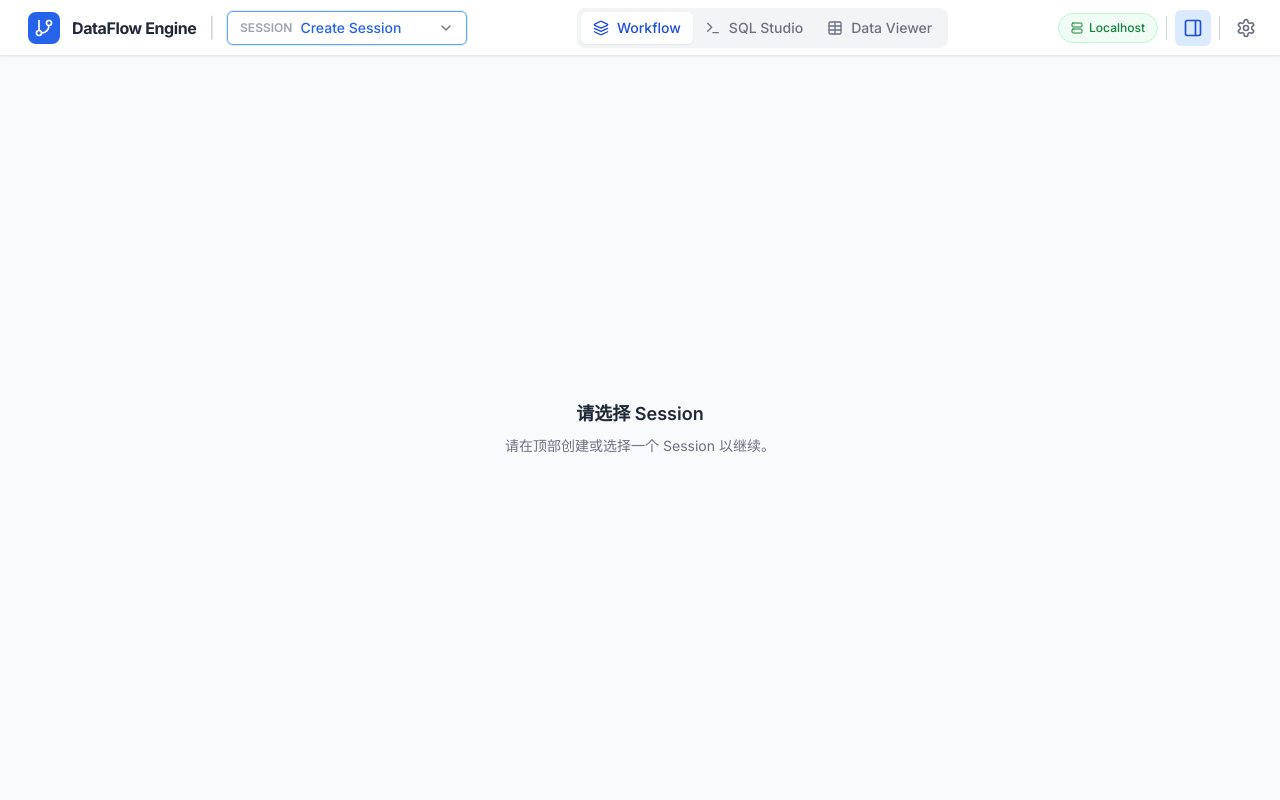
Session diagnostics (UI) › opens diagnostics modal with report content
Click the button "Session Create Session": (347, 28) [227,10,467,44]
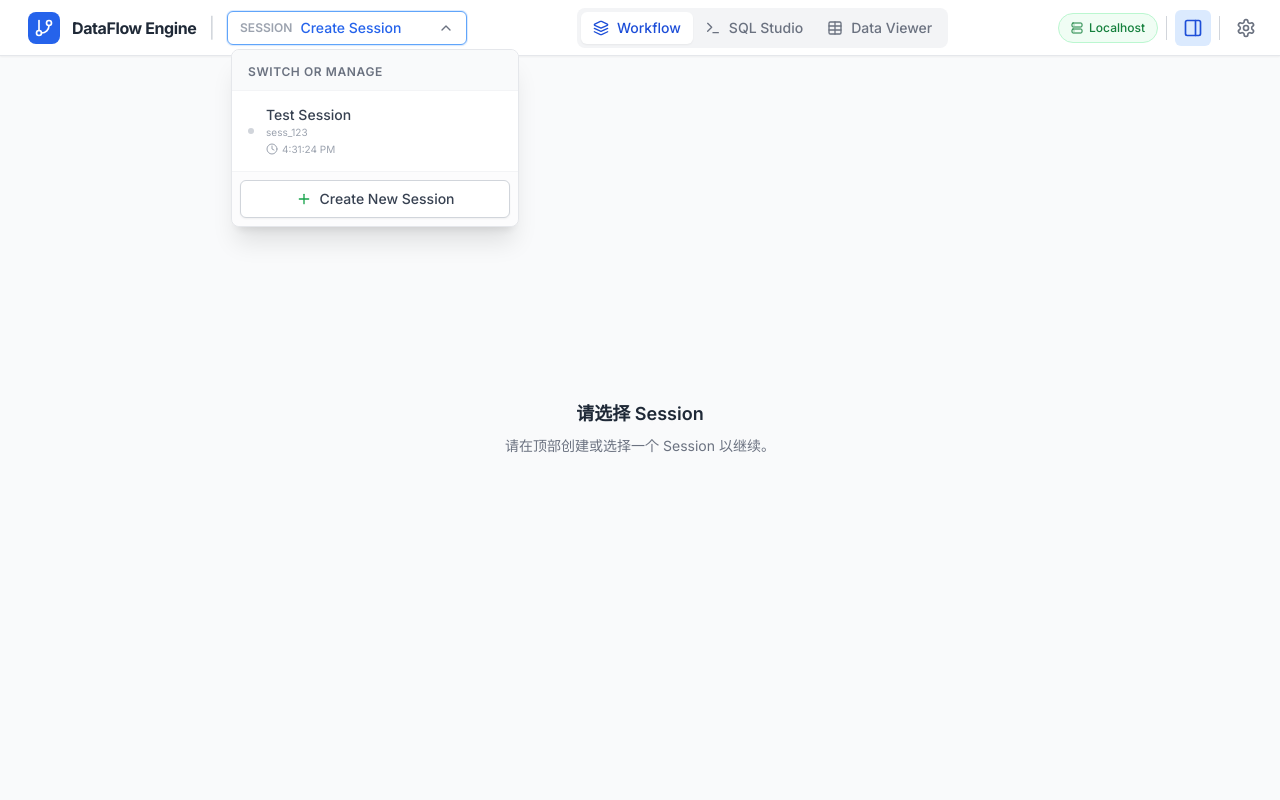
Click the text "Test Session": (309, 114) [266,104,351,124]
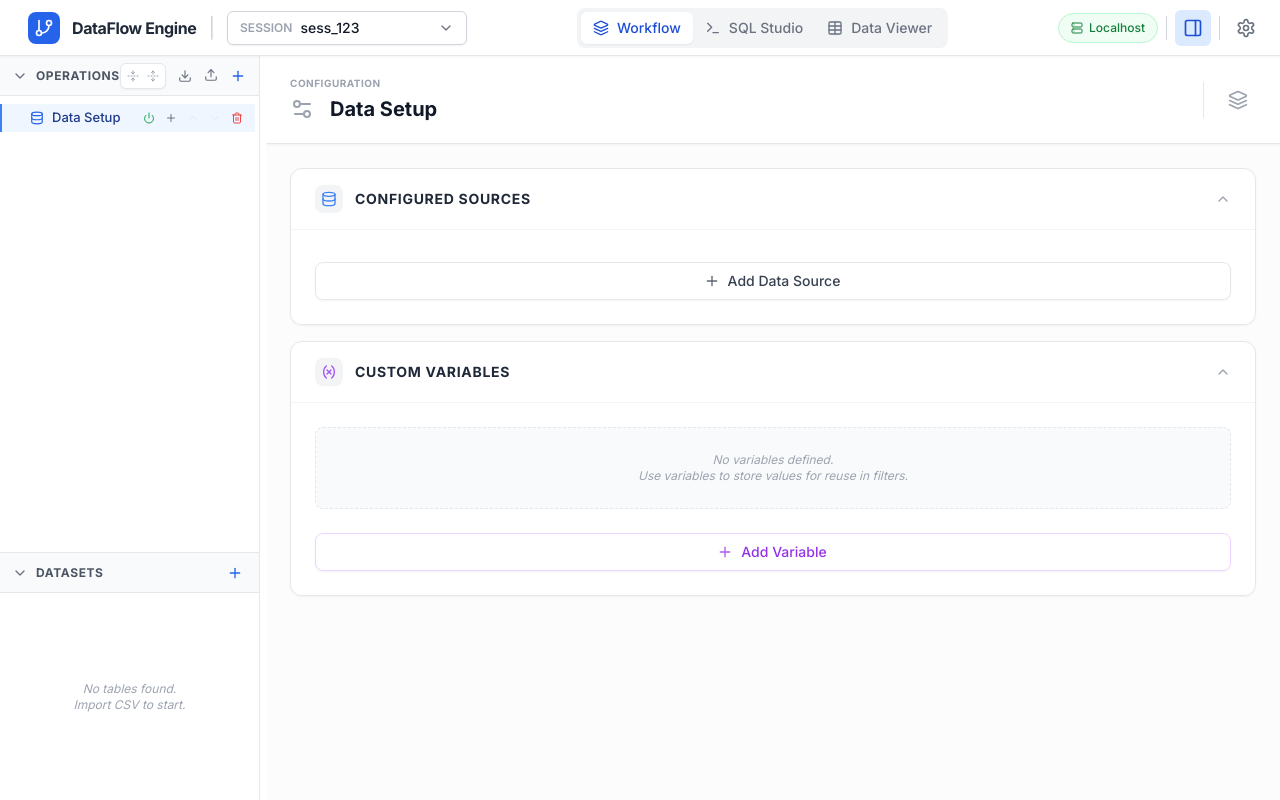
Click the button "Session sess_123": (347, 28) [227,10,467,44]
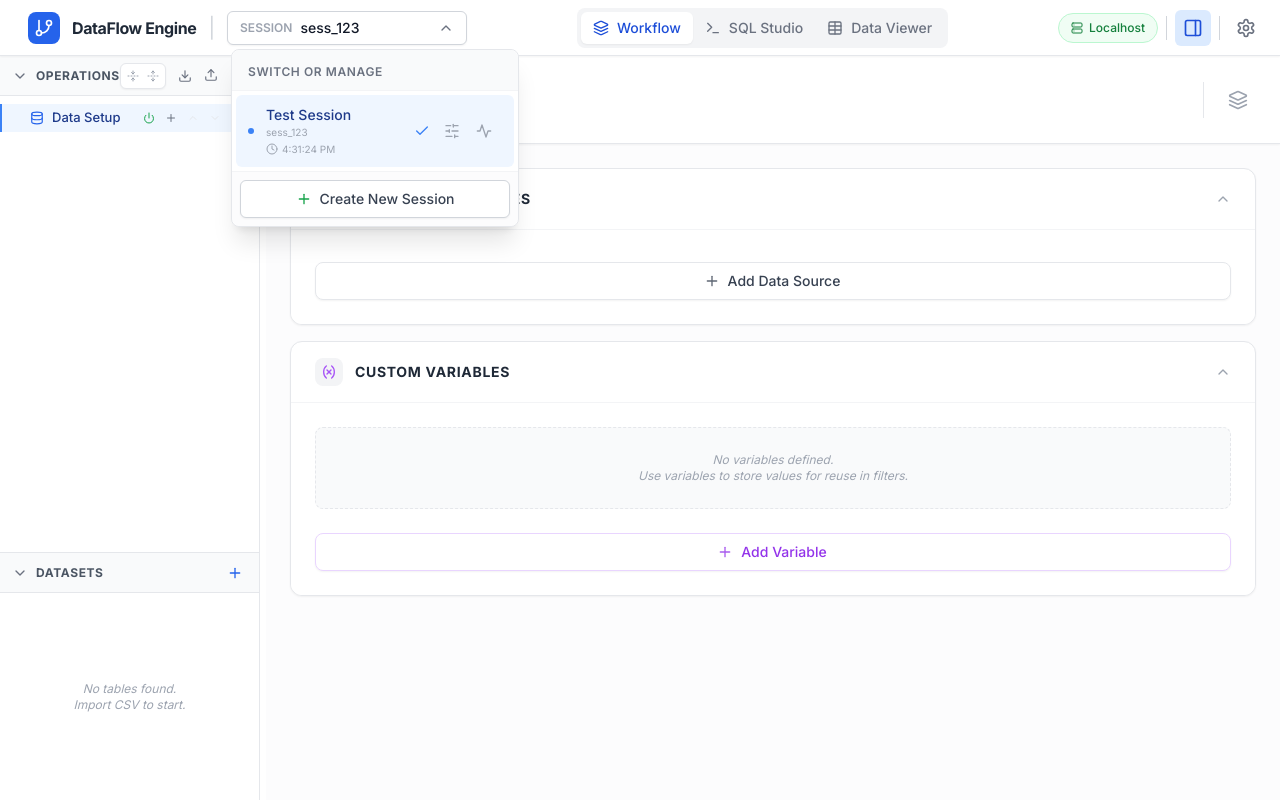
Click the button titled "Session Diagnostics": (484, 130) [470,116,498,144]
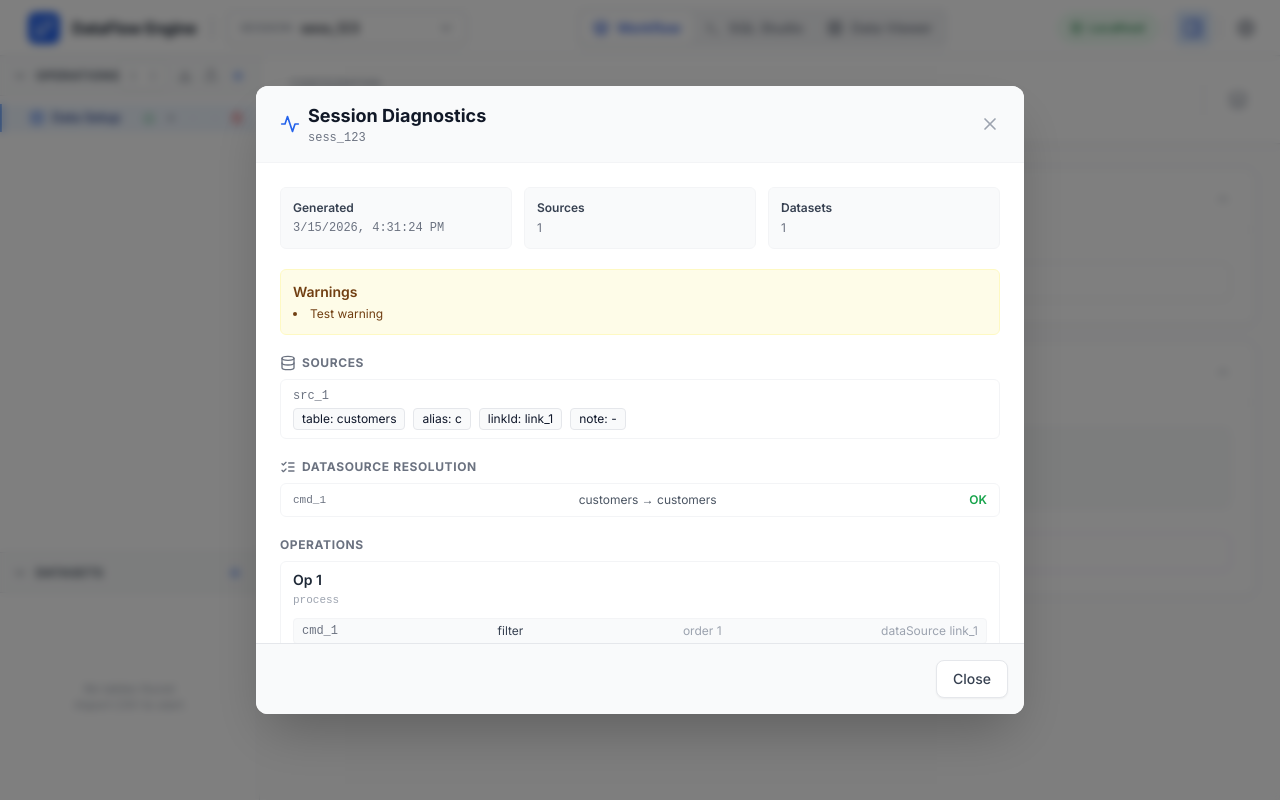
Result: the text "Session Diagnostics" is shown at [308,102,486,130]
Result: the text "Test warning" is shown at [310,306,383,321]
Result: the text "customers" is shown at [337,411,396,426]
